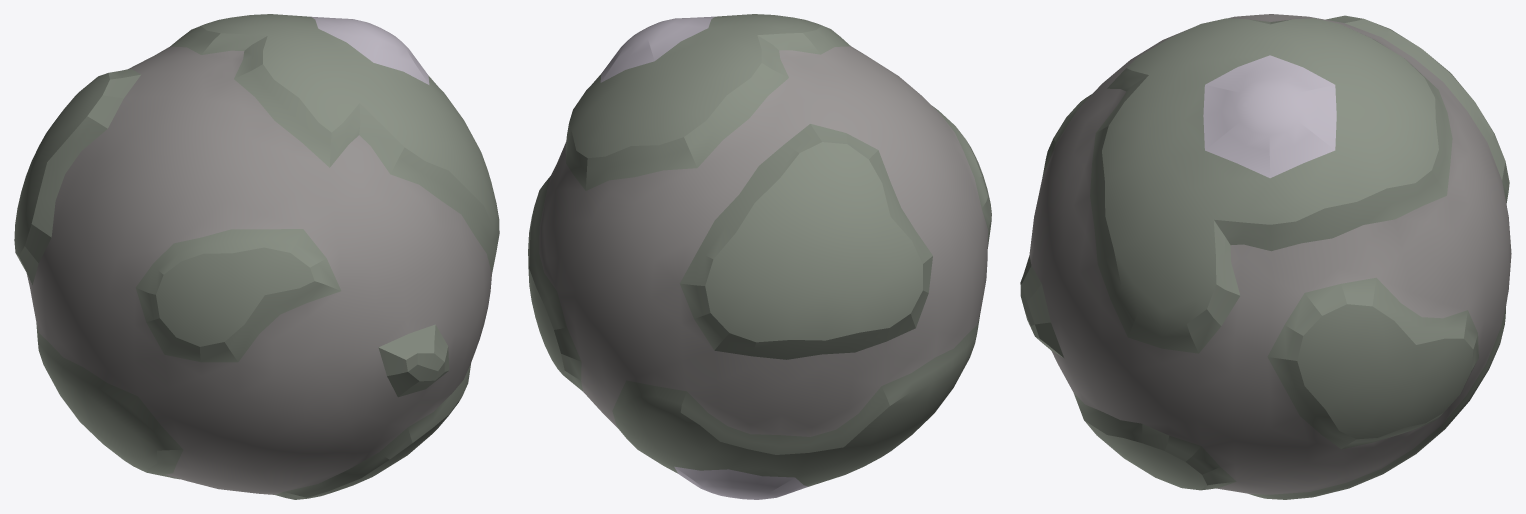
Rendered from quaternius-ultimate-space-pack-planet-1-transformed.glb.
3 views of the same model, side by side, from view 1: azimuth 30°, elevation 25°; view 2: azimuth 150°, elevation 25°; view 3: azimuth 270°, elevation 25° (orthographic). The views are drawn at different scales.
Visible parts, largest first — view 1: Planet_1; view 2: Planet_1; view 3: Planet_1.
Part boxes in pixels (x1=…): Planet_1: x1=14, y1=14, x2=499, y2=499; Planet_1: x1=528, y1=14, x2=991, y2=499; Planet_1: x1=1020, y1=14, x2=1511, y2=499.
Bounding box in the file's own units: 3.78 × 3.93 × 3.8.
Materials: 1 (1 with a texture image).
